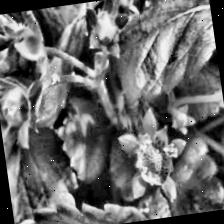Blossom Blight: (132, 132, 182, 187)
